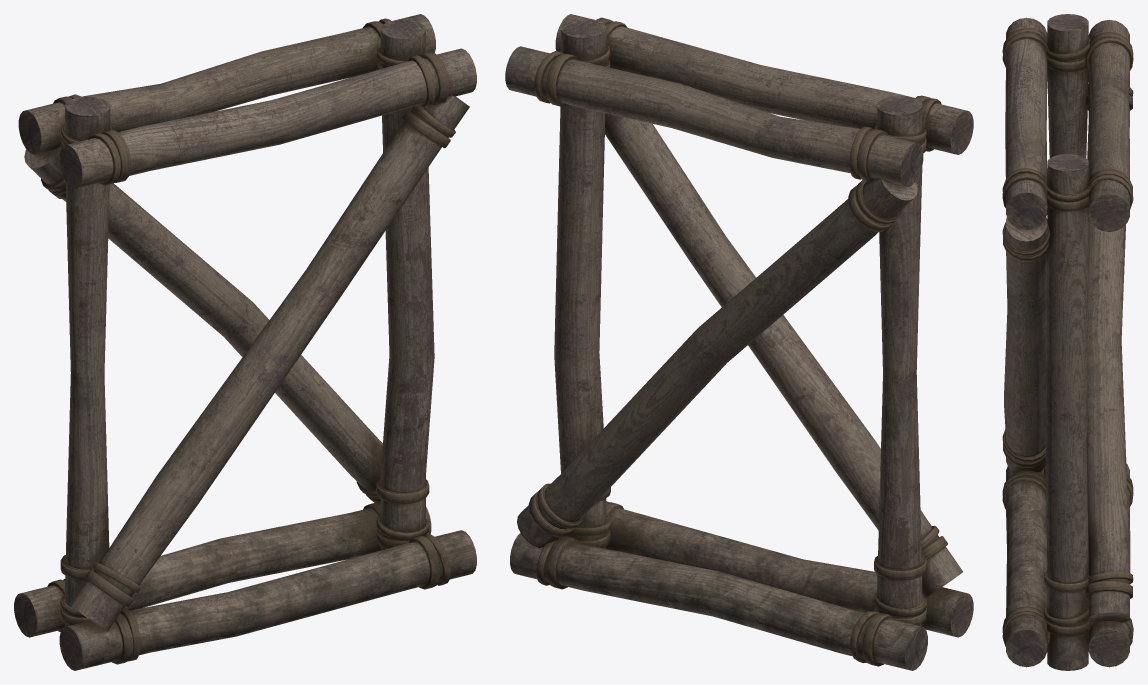
File: SM_Bridge02b.fbx
3 views of the same model, side by side, from view 1: azimuth 30°, elevation 25°; view 2: azimuth 150°, elevation 25°; view 3: azimuth 270°, elevation 25° (orthographic). The views are drawn at different scales.
Parts seen in each view (by area): view 1: SM_Bridge02b; view 2: SM_Bridge02b; view 3: SM_Bridge02b.
Boxes of the visible parts, x1,y1,x2,y2 form: SM_Bridge02b: (14, 14, 476, 670); SM_Bridge02b: (505, 14, 973, 670); SM_Bridge02b: (1002, 14, 1133, 670).
Bounding box in the file's own units: 152 × 47.58 × 200.
Materials: 1 (1 with a texture image).
